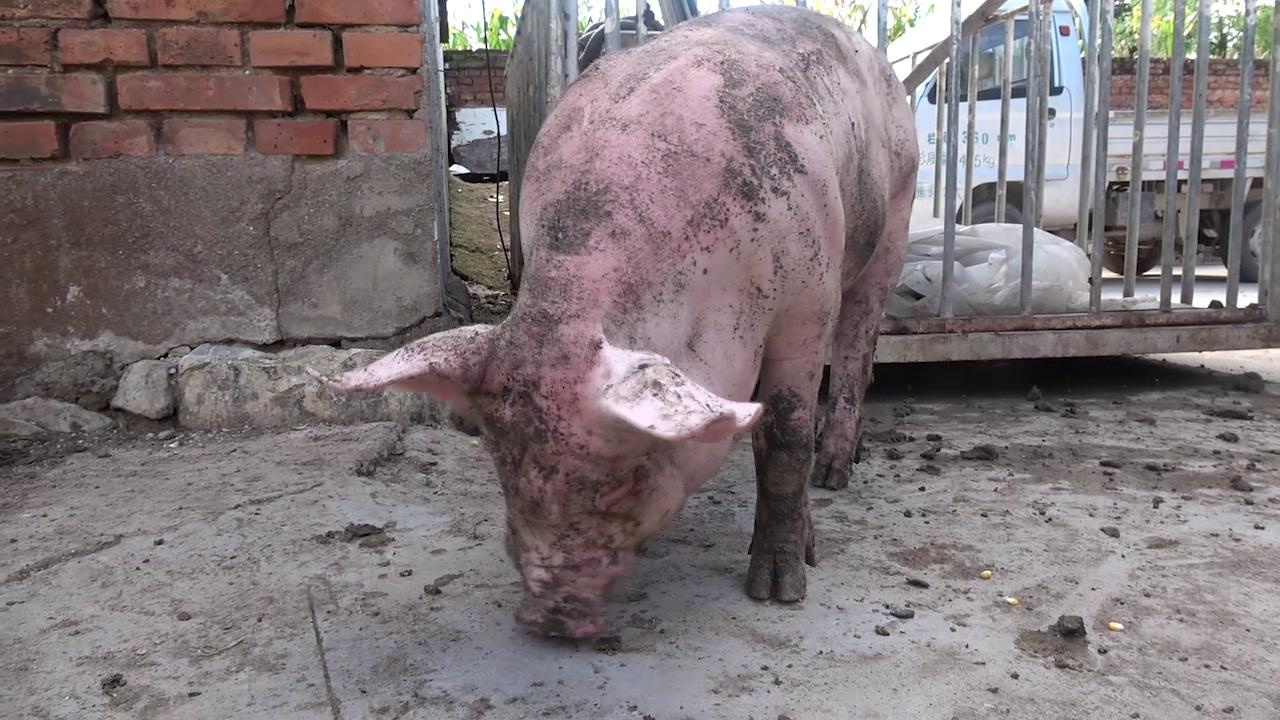Face: (300, 323, 792, 663)
